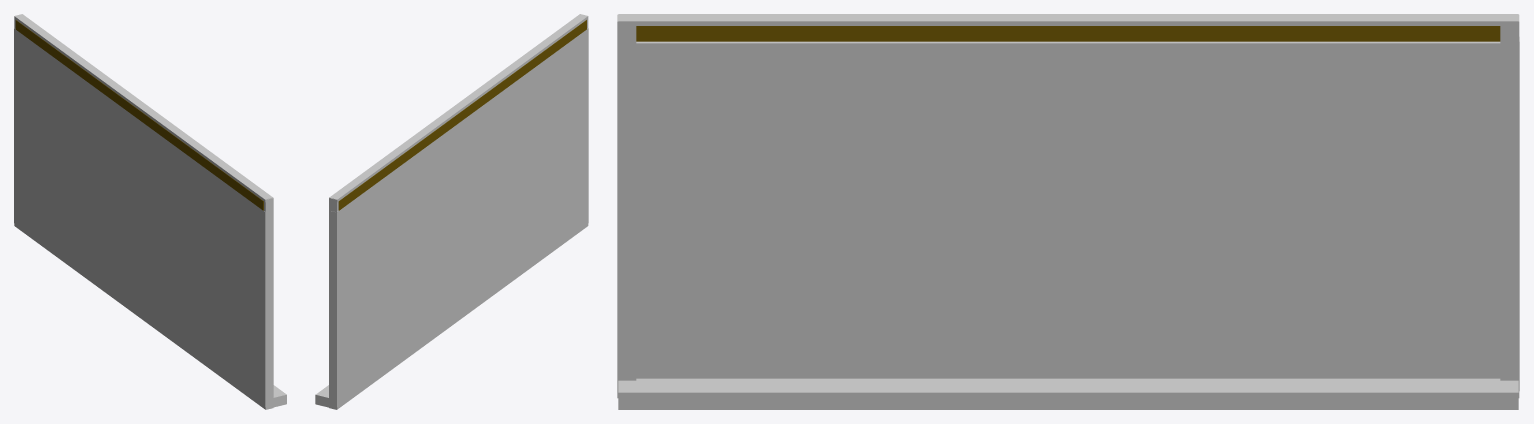
File: whiteboard.fbx
3 renders of one model, left to right at view 1: azimuth 30°, elevation 25°; view 2: azimuth 150°, elevation 25°; view 3: azimuth 270°, elevation 25°, orthographic. The views are drawn at different scales.
Visible parts, largest first — view 1: Cube.002; view 2: Cube.002; view 3: Cube.002.
Boxes of the visible parts, x1,y1,x2,y2 form: Cube.002: (14,14,286,409); Cube.002: (315,14,588,409); Cube.002: (617,14,1519,409).
Bounding box in the file's own units: 89.14 × 810 × 1756.
